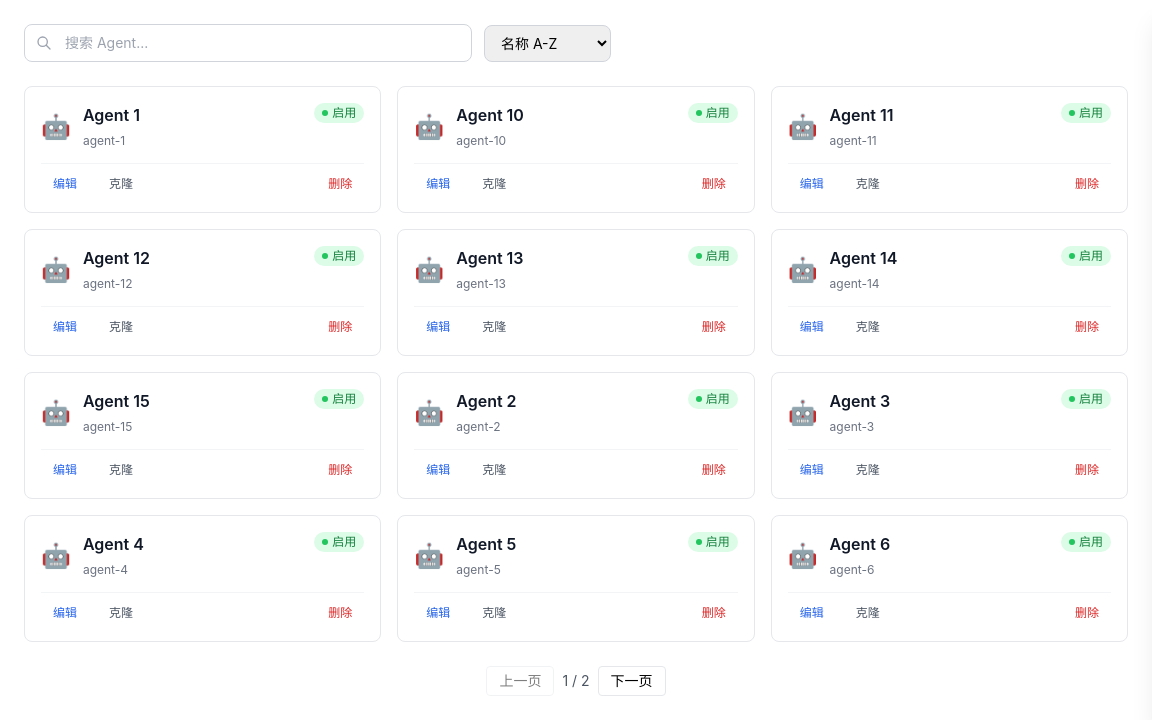
AgentManagement › paginates agents when page size is exceeded
(page scrolled)
// Click next page
Click the button "下一页" at (632, 681), box [598,666,666,696]
(page scrolled)
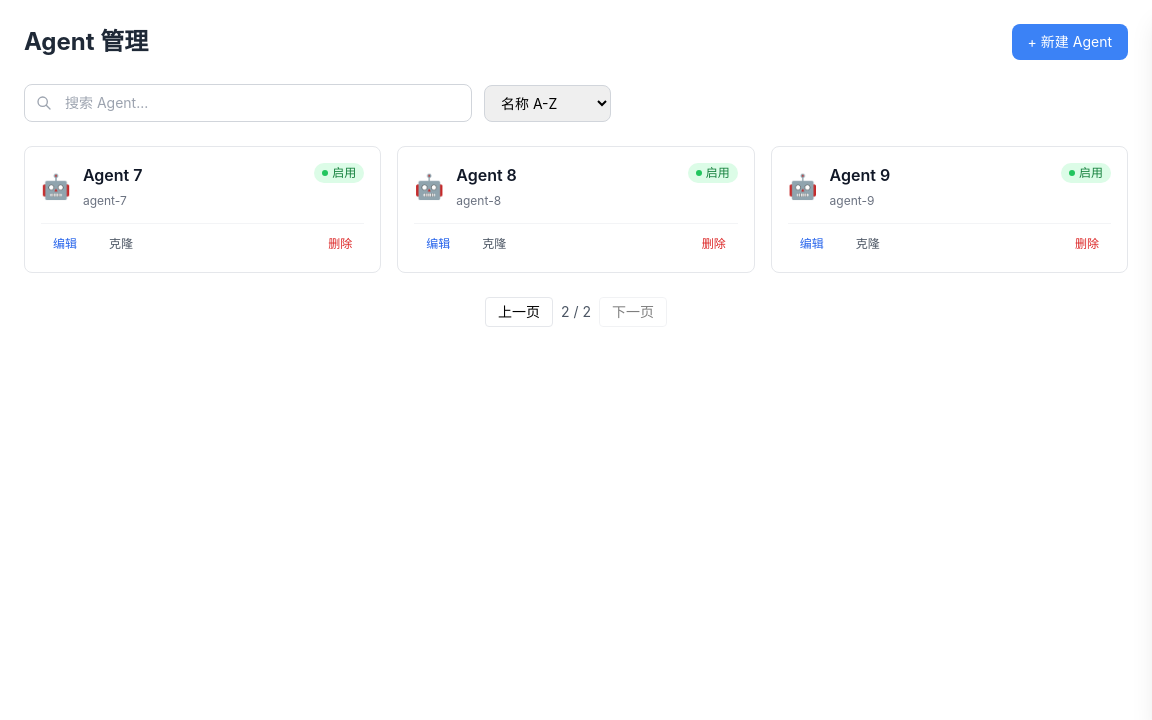
Expected: the number of headings "Agent 7" is 3, [83,163,142,187]; [456,163,517,187]; [830,163,890,187]
